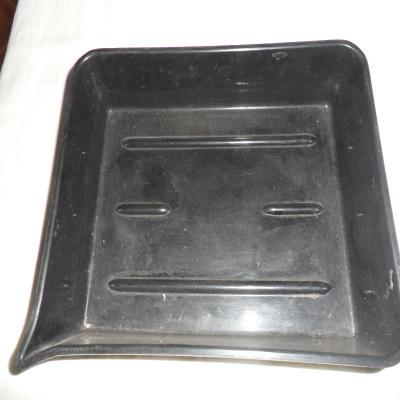technique: (24, 40, 400, 376)
